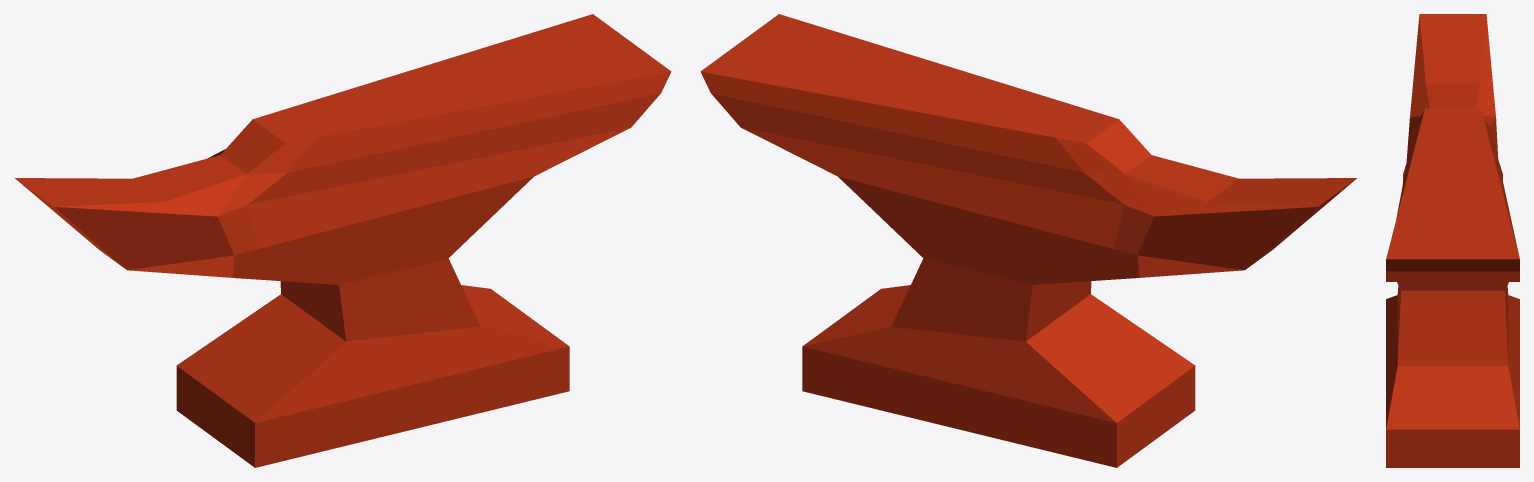
File: Anvil_1_Red.fbx
The picture shows the model from 3 angles, left to right: view 1: azimuth 30°, elevation 25°; view 2: azimuth 150°, elevation 25°; view 3: azimuth 270°, elevation 25°; orthographic projection. The views are drawn at different scales.
Visible parts, largest first — view 1: Anvil_1_Red; view 2: Anvil_1_Red; view 3: Anvil_1_Red.
Part boxes in pixels (x1=…): Anvil_1_Red: x1=15, y1=14, x2=671, y2=467; Anvil_1_Red: x1=700, y1=14, x2=1356, y2=467; Anvil_1_Red: x1=1386, y1=14, x2=1519, y2=467.
Bounding box in the file's own units: 99.97 × 47.09 × 22.77.
